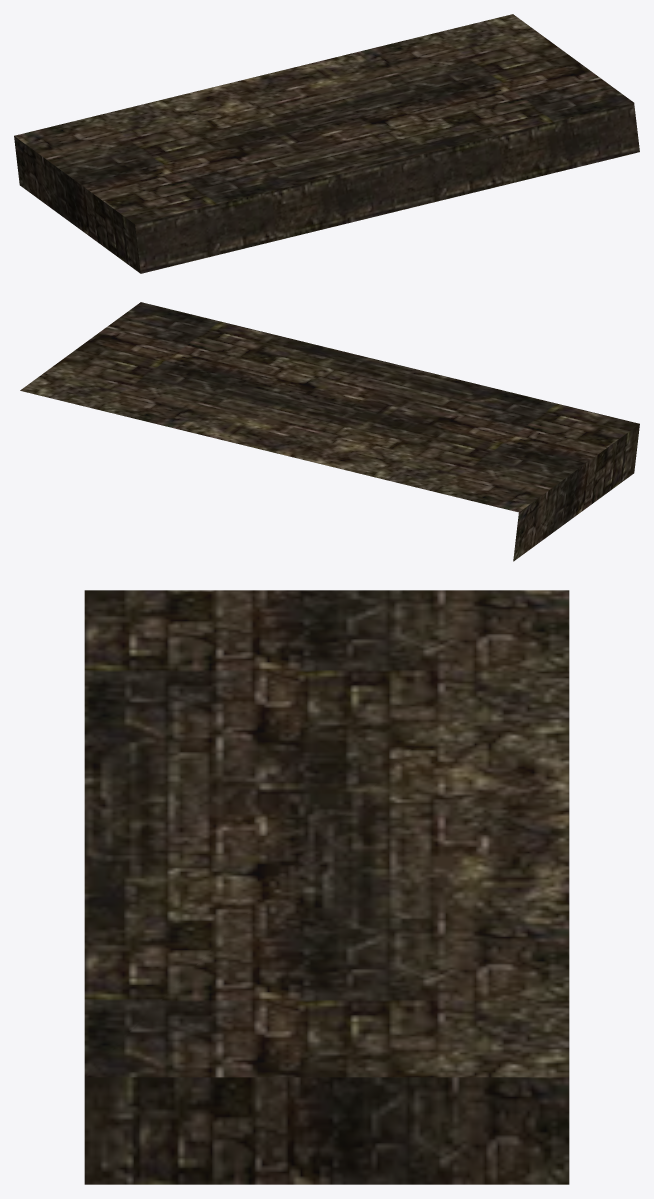
3 views of the same model, one above another, from view 1: azimuth 30°, elevation 25°; view 2: azimuth 150°, elevation 25°; view 3: azimuth 270°, elevation 25° (orthographic). The views are drawn at different scales.
Parts seen in each view (by area): view 1: model_Object01; view 2: model_Object01; view 3: model_Object01.
Boxes of the visible parts, x1,y1,x2,y2 form: model_Object01: [14, 14, 639, 273]; model_Object01: [20, 302, 639, 561]; model_Object01: [84, 590, 569, 1184].
Size of the model in its own units: 3.16 by 0.3036 by 1.31.
1 material, 1 textured.
